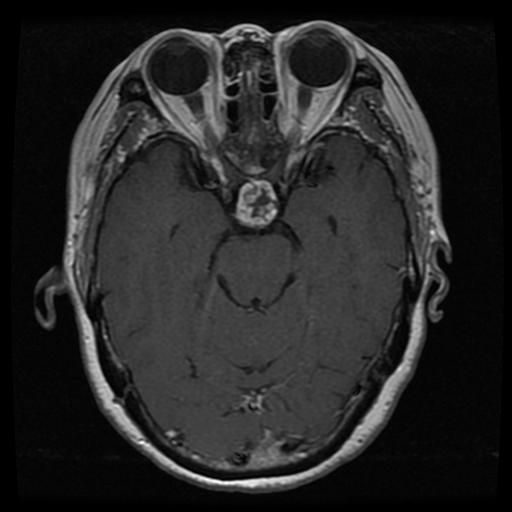Pituirity_tumour: (233, 178, 277, 228)
